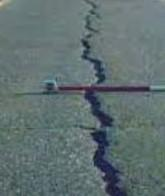crack: (82, 0, 133, 196)
